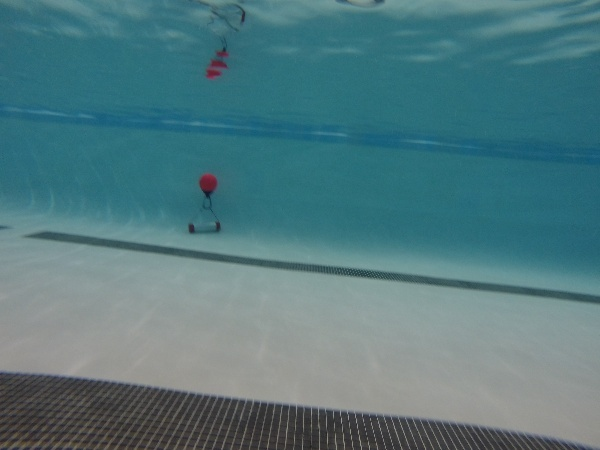buoy_red: (198, 173, 218, 198)
